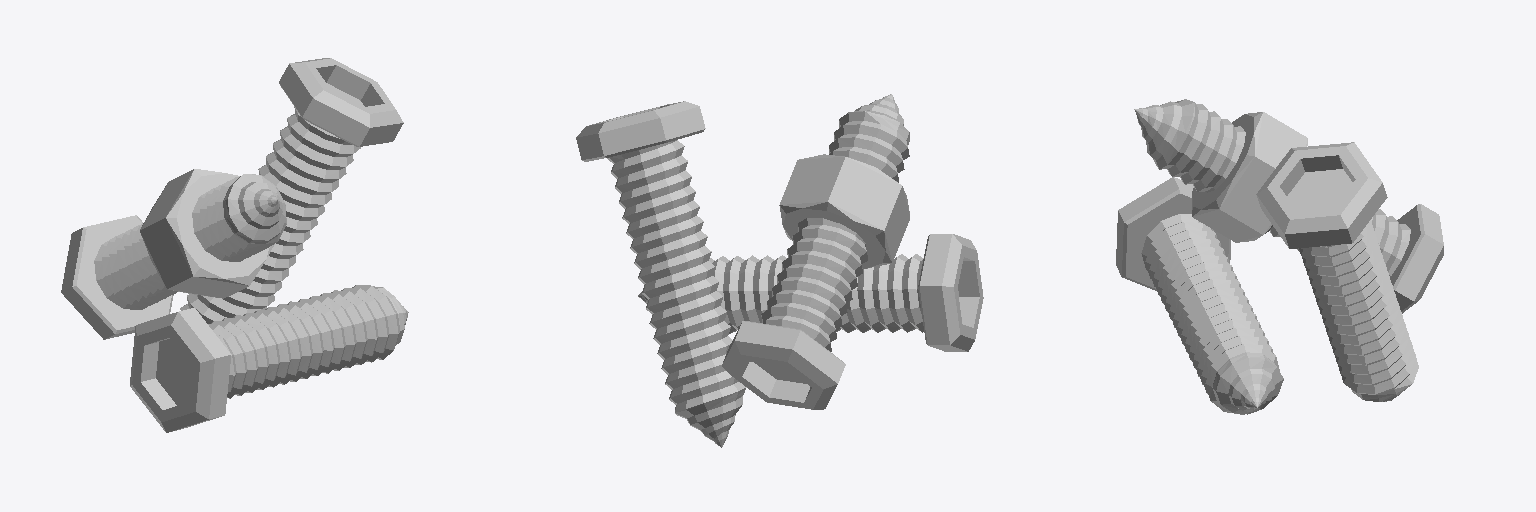
Rendered from BrassScrewsMesh.obj.
3 renders of one model, left to right at view 1: azimuth 30°, elevation 25°; view 2: azimuth 150°, elevation 25°; view 3: azimuth 270°, elevation 25°, orthographic.
Visible parts, largest first — view 1: BrassScrewsMesh_Brass_Screws; view 2: BrassScrewsMesh_Brass_Screws; view 3: BrassScrewsMesh_Brass_Screws.
Boxes of the visible parts, box(x1,y1,x2,y2) form: BrassScrewsMesh_Brass_Screws: box(61, 58, 408, 432); BrassScrewsMesh_Brass_Screws: box(576, 94, 983, 447); BrassScrewsMesh_Brass_Screws: box(1116, 99, 1443, 414).
Size of the model in its own units: 1.69 by 1.53 by 1.52.